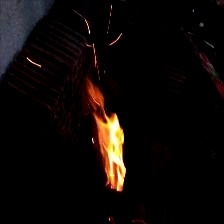fire: (80, 71, 139, 204)
